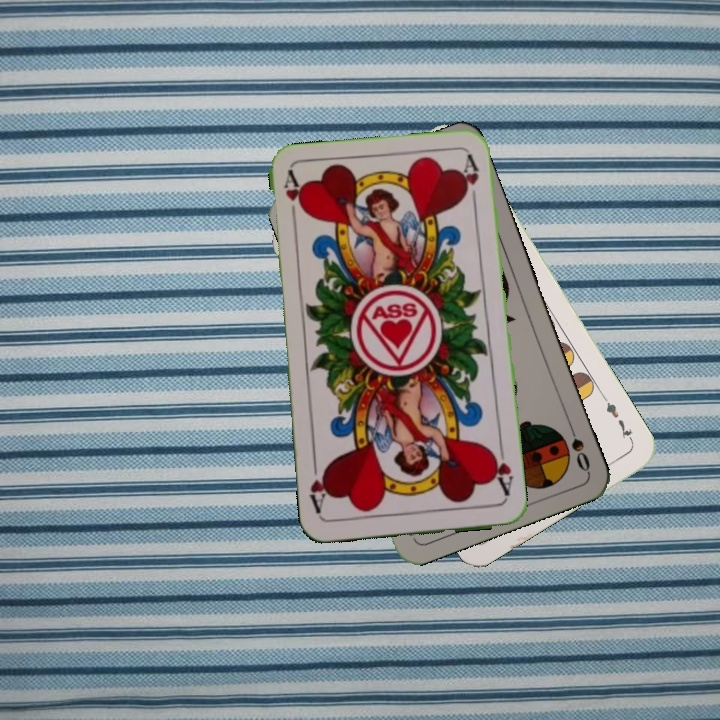E7: (598, 392, 636, 445)
HA: (487, 441, 516, 501), (280, 169, 306, 228)
SO: (564, 417, 593, 475)
